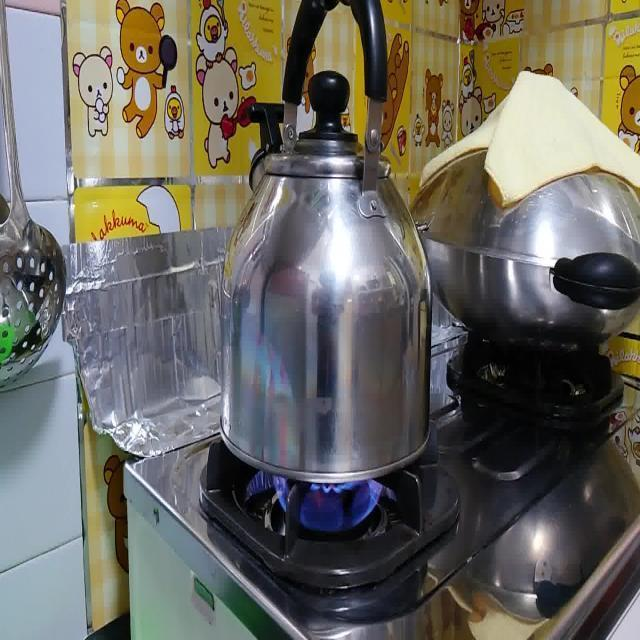Flame: (277, 478, 392, 540)
Pan: (219, 3, 434, 480)
